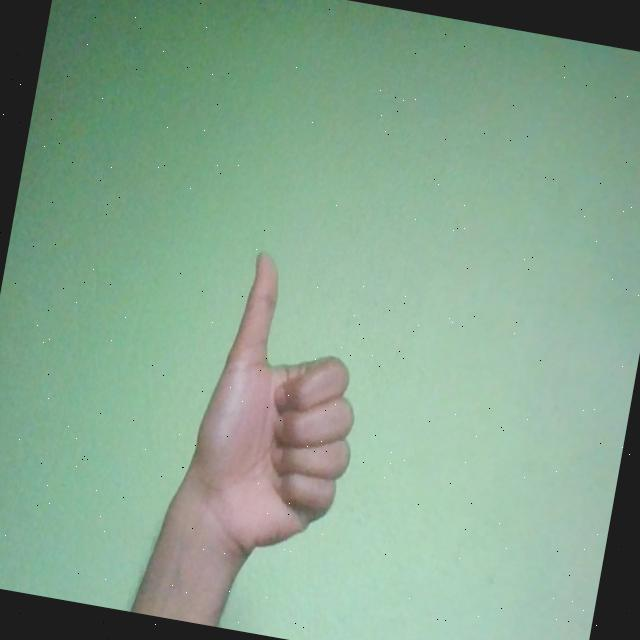Good Job: (174, 242, 385, 574)
